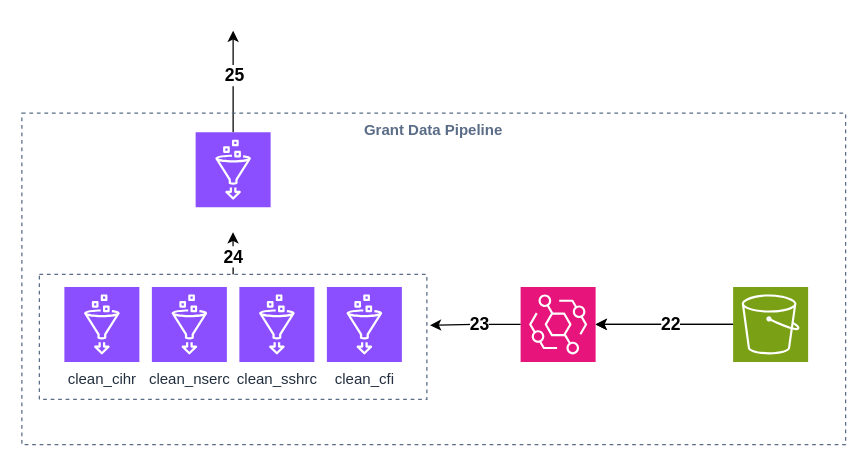
Image size: 868x468. Some labels were removed from this diagram. Here are the shapes that lost their labels. From the top down, the box of each, then its label:
(194, 131, 271, 207): storeData
(519, 286, 596, 362): S3 Trigger
(732, 286, 808, 362): Grant CSVs
